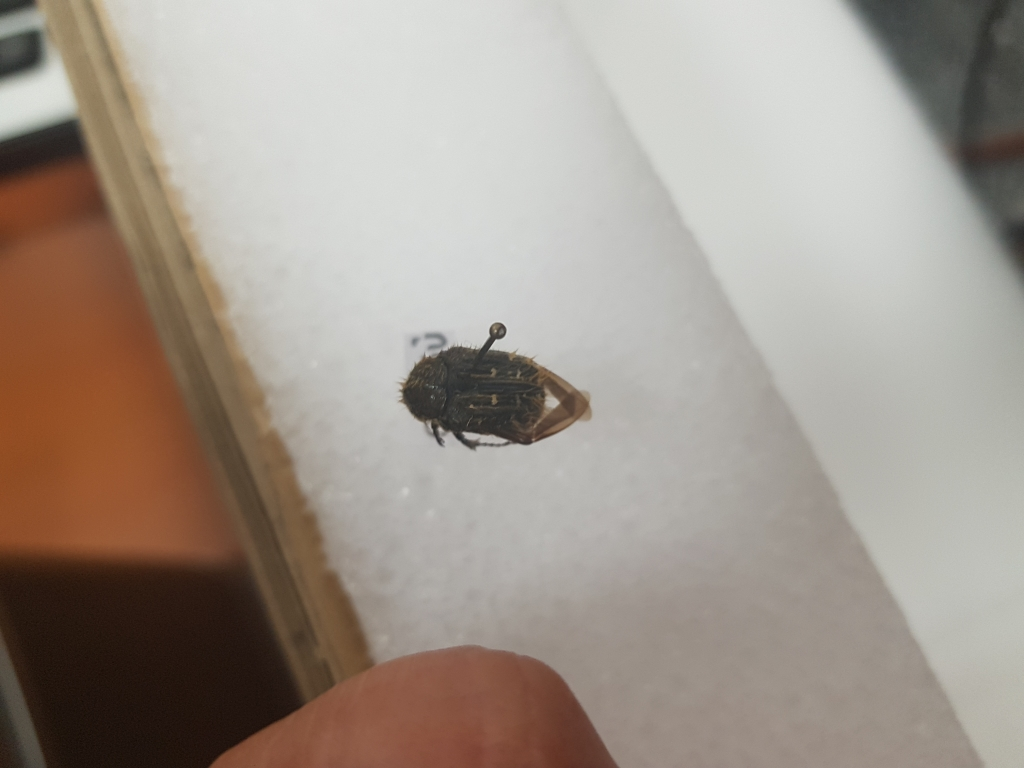Tropinota_hirta: (389, 340, 613, 450)
